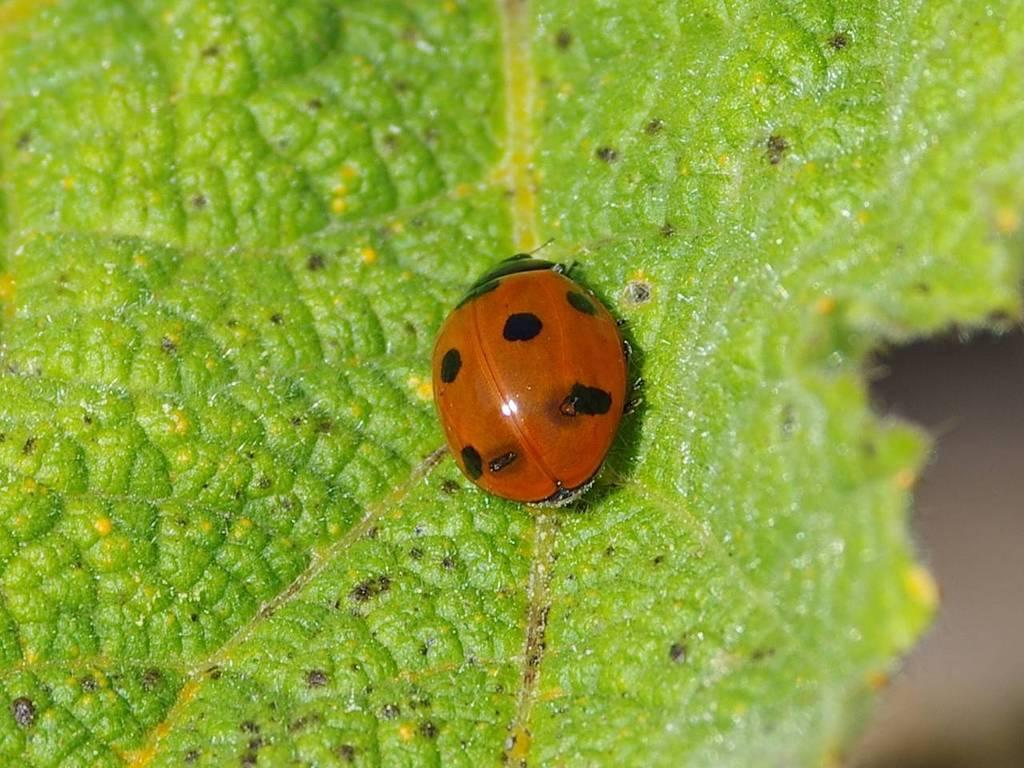ladybug: (431, 235, 645, 511)
